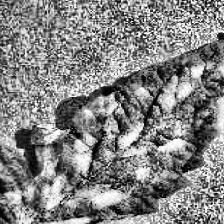leaf mold: (0, 10, 224, 224)
